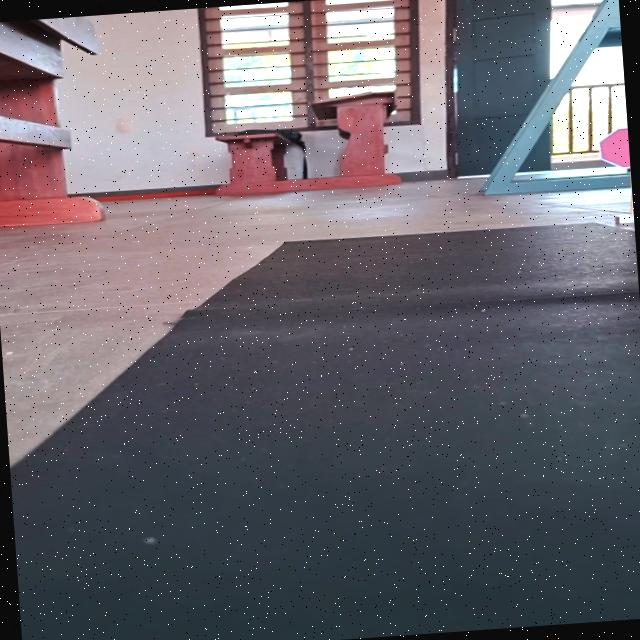Stop: (594, 125, 630, 170)
